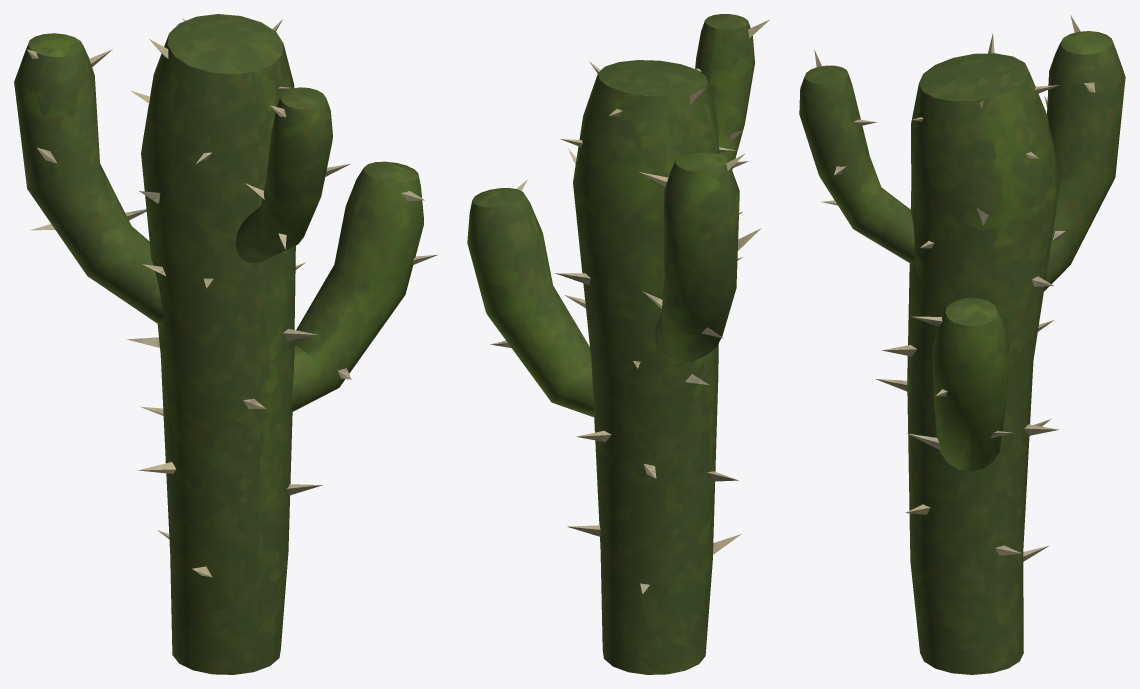
The model's file is Sm_CactusVer2.fbx.
The picture shows the model from 3 angles, left to right: view 1: azimuth 30°, elevation 25°; view 2: azimuth 150°, elevation 25°; view 3: azimuth 270°, elevation 25°; orthographic projection. The views are drawn at different scales.
Visible parts, largest first — view 1: Sm_CactusVer2; view 2: Sm_CactusVer2; view 3: Sm_CactusVer2.
Boxes of the visible parts, x1,y1,x2,y2 form: Sm_CactusVer2: [14, 14, 438, 674]; Sm_CactusVer2: [467, 14, 769, 674]; Sm_CactusVer2: [799, 15, 1125, 674].
Bounding box in the file's own units: 72.46 × 125 × 62.6.
